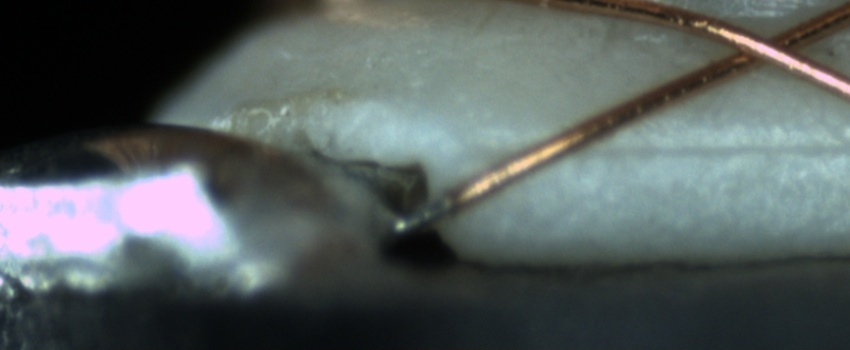CL: (705, 13, 833, 79)
DL: (568, 115, 849, 176)
TS: (397, 192, 454, 235)
